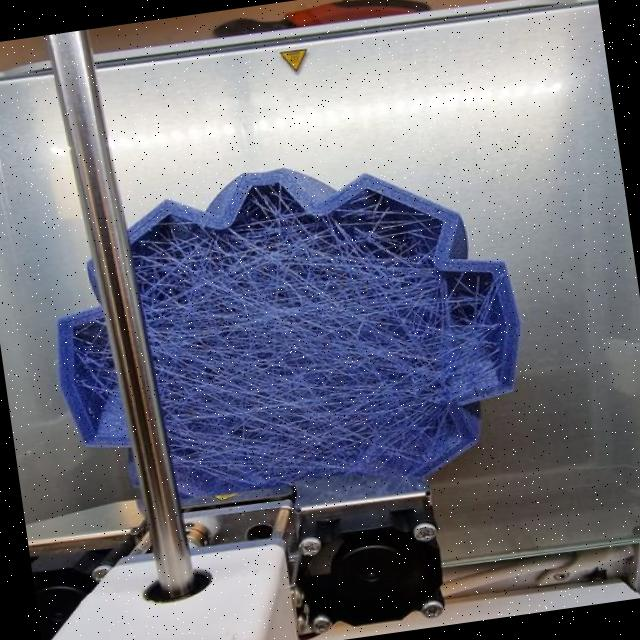stringing: (124, 171, 497, 509)
